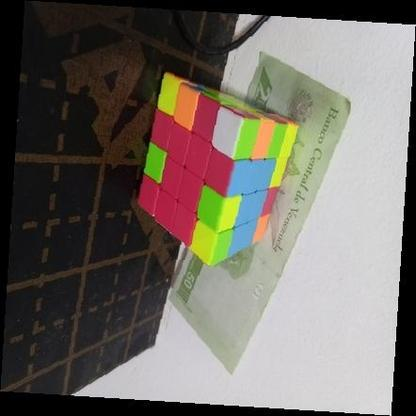fifty-back-vef: (166, 49, 352, 374)
